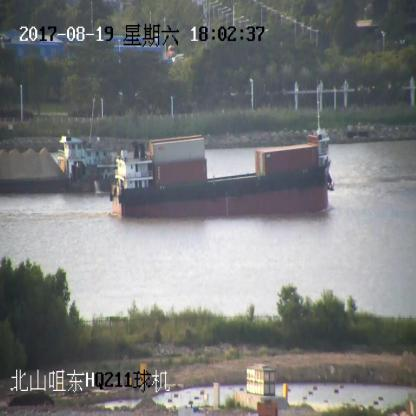Container Ship: (111, 108, 333, 218)
